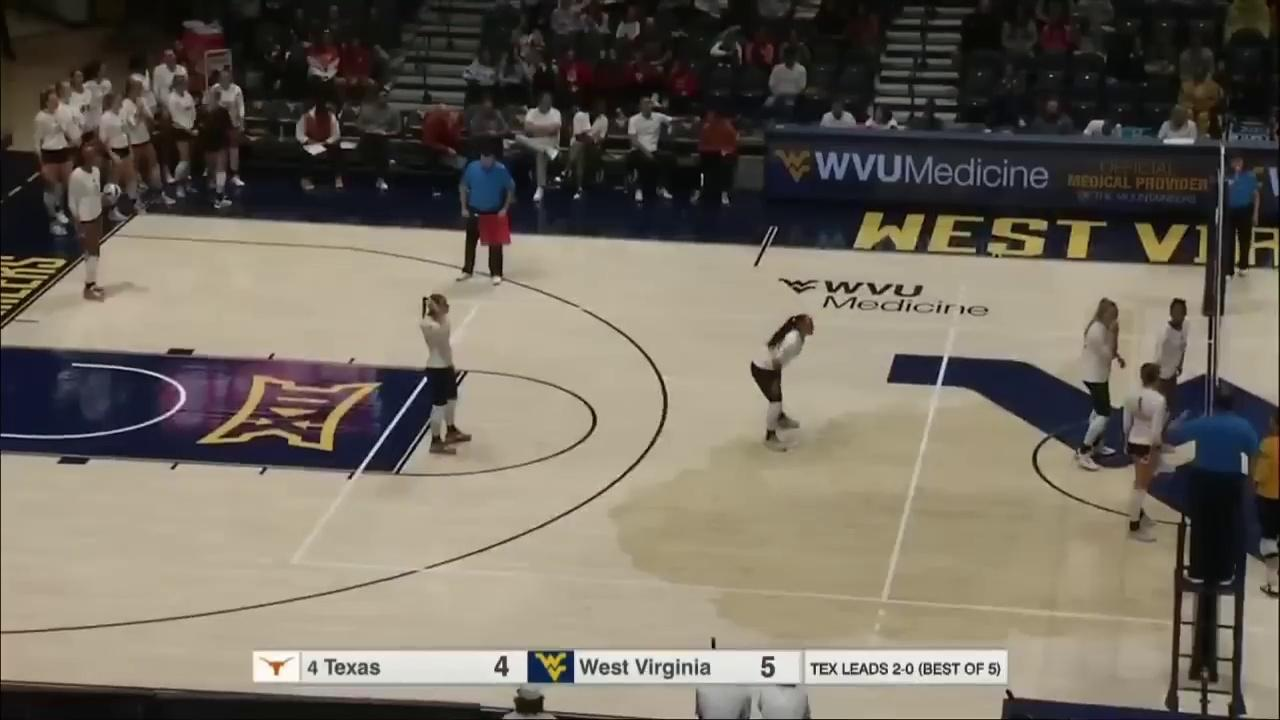player: (419, 292, 473, 458), (752, 315, 817, 450), (1140, 292, 1190, 462), (1126, 355, 1170, 545), (1080, 292, 1125, 473), (65, 144, 111, 305), (1250, 406, 1280, 597)
refree: (1180, 390, 1254, 587), (453, 153, 519, 286), (1219, 155, 1259, 278)
